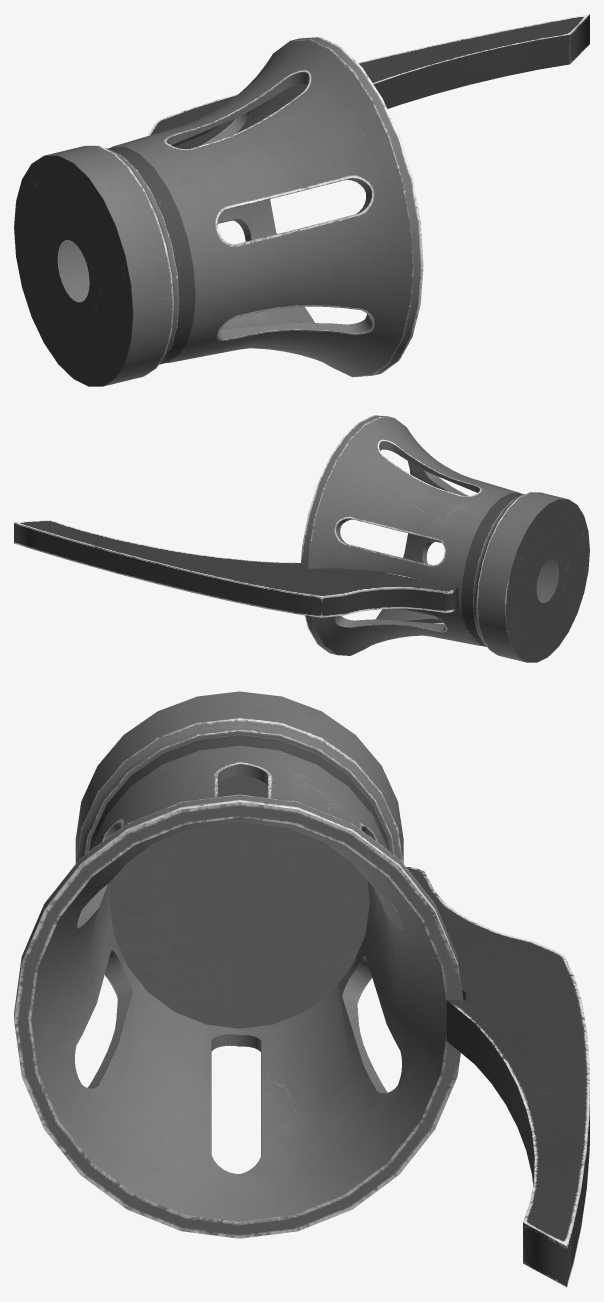
Rendered from guard_20_r_a.glb.
3 views of the same model, one above another, from view 1: azimuth 30°, elevation 25°; view 2: azimuth 150°, elevation 25°; view 3: azimuth 270°, elevation 25° (orthographic). The views are drawn at different scales.
Visible parts, largest first — view 1: guard_20_r_a_lod0; view 2: guard_20_r_a_lod0; view 3: guard_20_r_a_lod0.
Boxes of the visible parts, x1,y1,x2,y2 form: guard_20_r_a_lod0: (14,14,589,386); guard_20_r_a_lod0: (14,415,589,662); guard_20_r_a_lod0: (14,691,589,1287).
Size of what is drawn, in the model's own units: 0.0892 by 0.0426 by 0.0509.
Materials: 1 (1 with a texture image).
